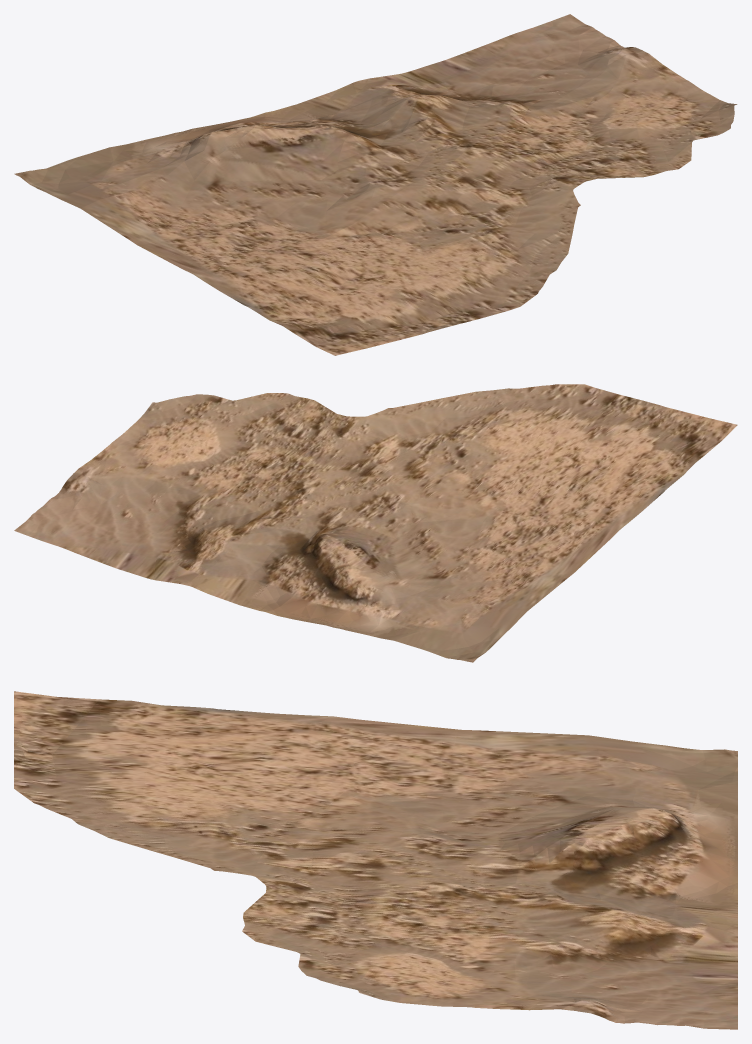
The picture shows the model from 3 angles, top to bottom: view 1: azimuth 30°, elevation 25°; view 2: azimuth 150°, elevation 25°; view 3: azimuth 270°, elevation 25°; orthographic projection. The views are drawn at different scales.
Bounding box in the file's own units: 2.09 × 0.2137 × 2.09.
2 materials, 2 textured.
